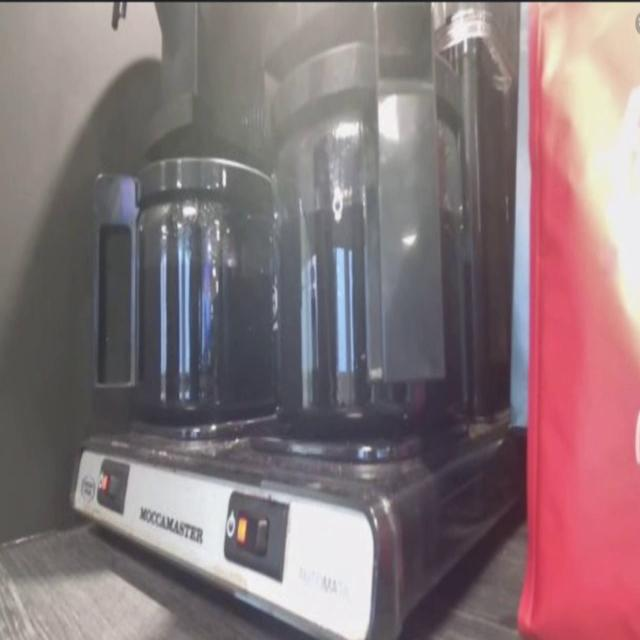coffee: (276, 155, 464, 428), (137, 208, 281, 418)
